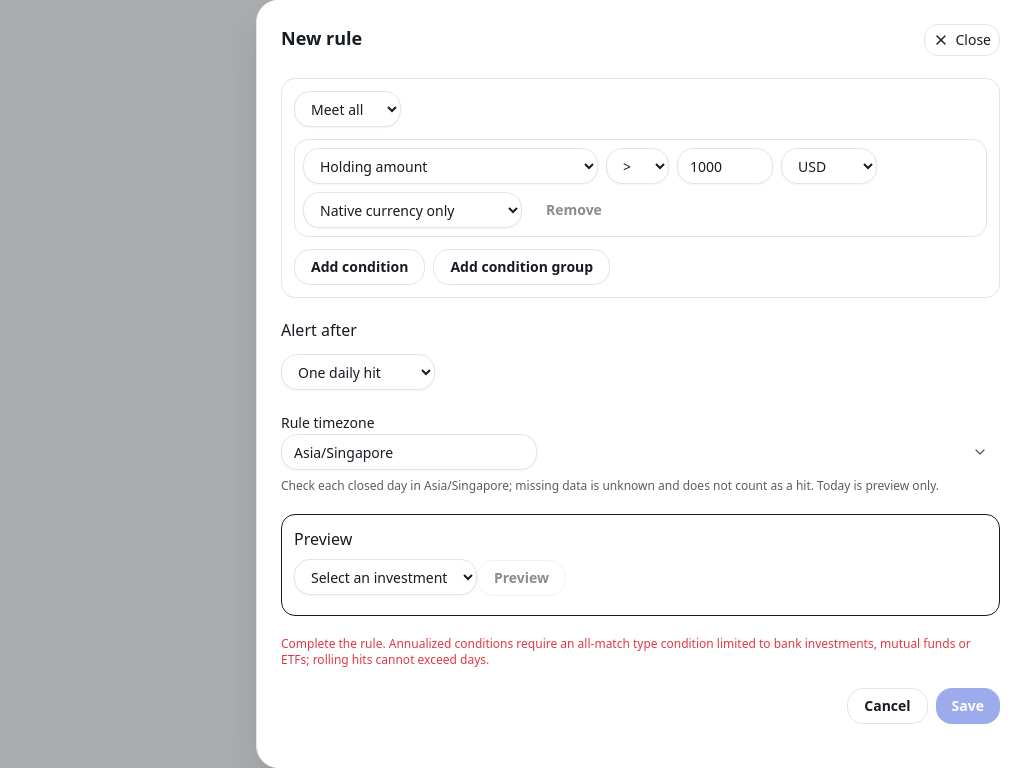
investment review rule editor › uses the IANA timezone chooser and cancels search text on Escape and Tab
(page scrolled)
Step 1. Click the dropdown labelled "Rule timezone" → (409, 452), box [281,434,537,470]
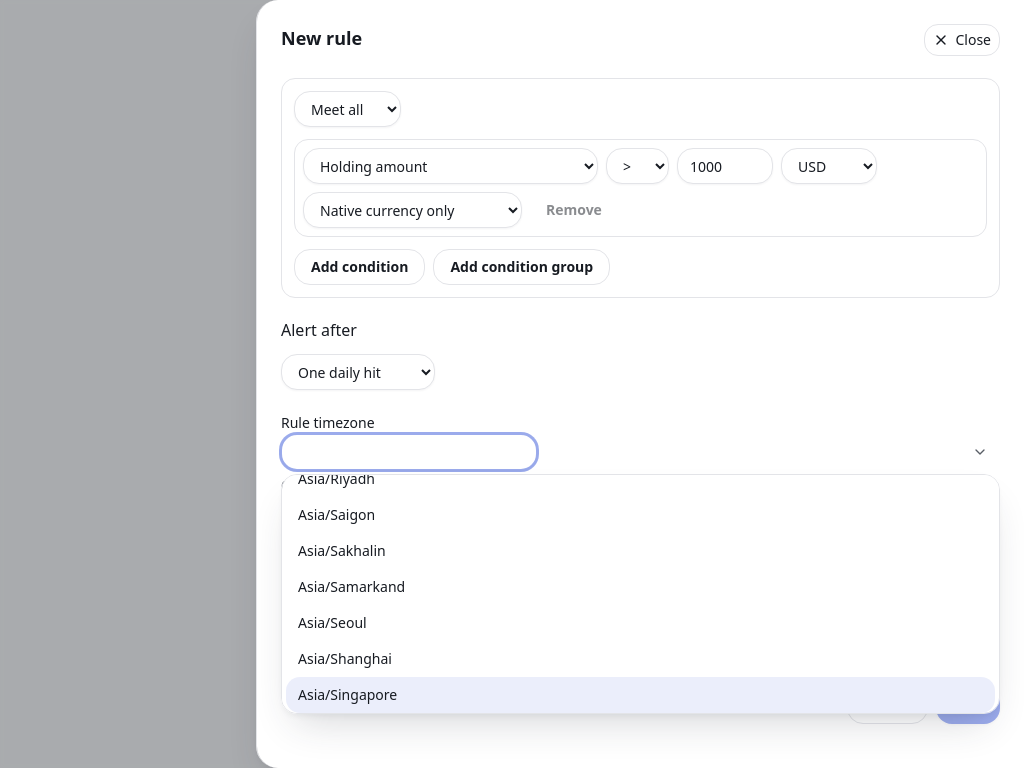
Step 2. Type "Pacific/Auckland" into the dropdown labelled "Rule timezone" → (409, 452), box [281,434,537,470]
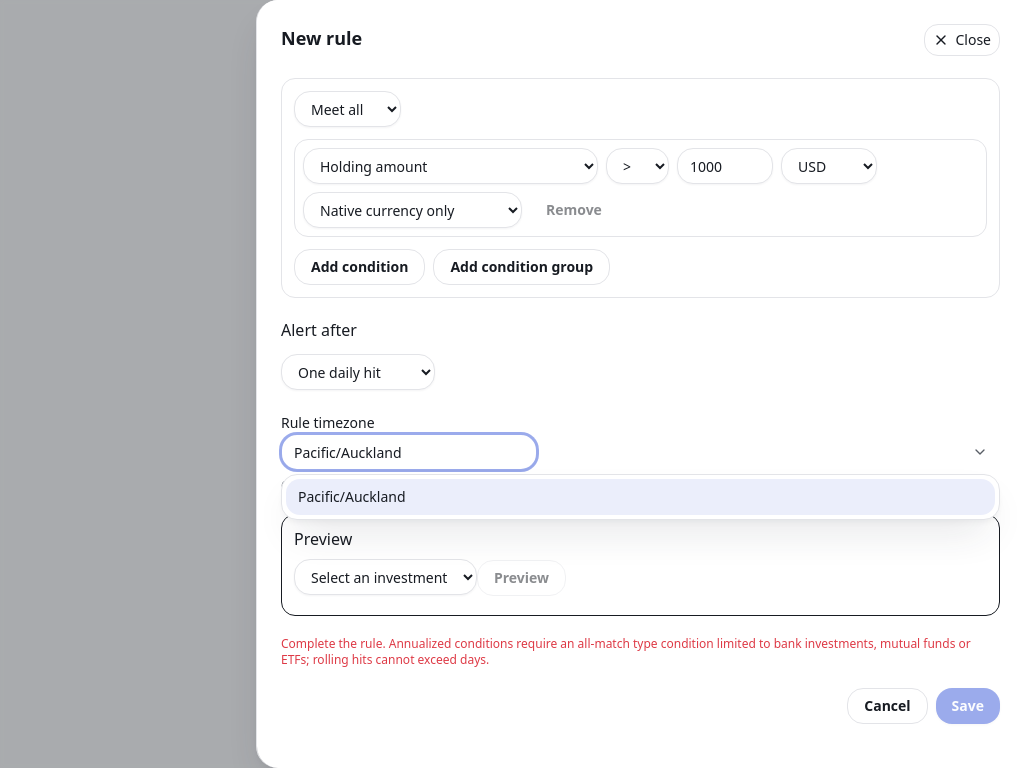
Step 3. Press Escape
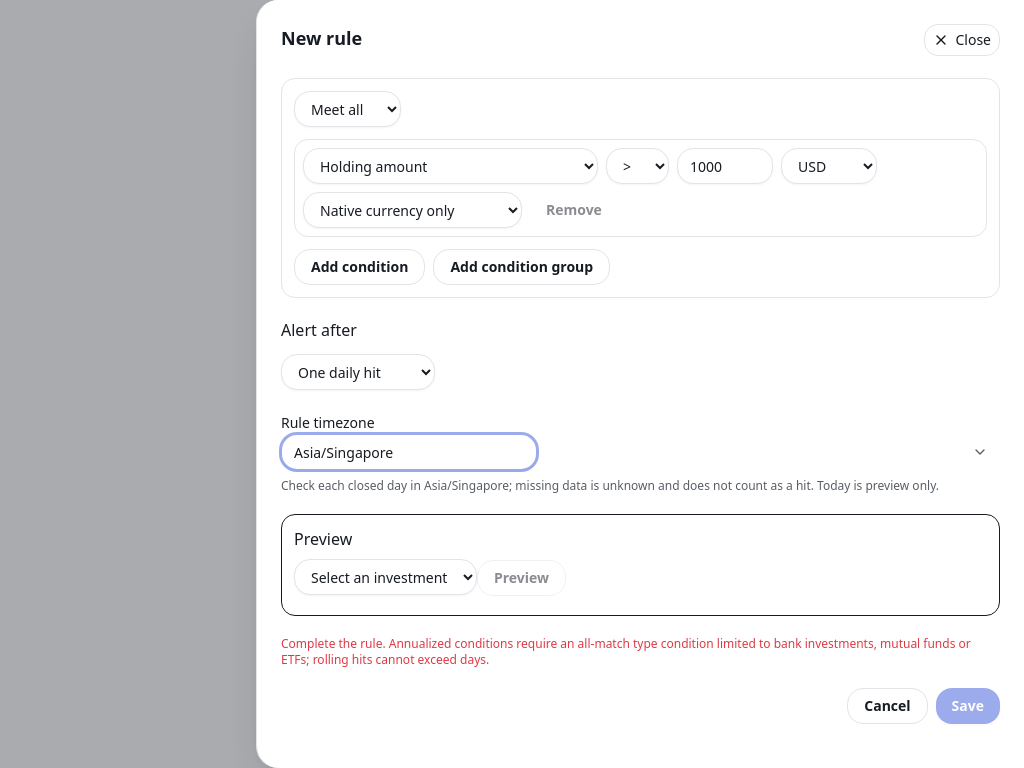
Check: the dropdown labelled "Rule timezone" holds "Asia/Singapore"
Step 4. Type "Pacific/Auckland" into the dropdown labelled "Rule timezone" → (409, 452), box [281,434,537,470]
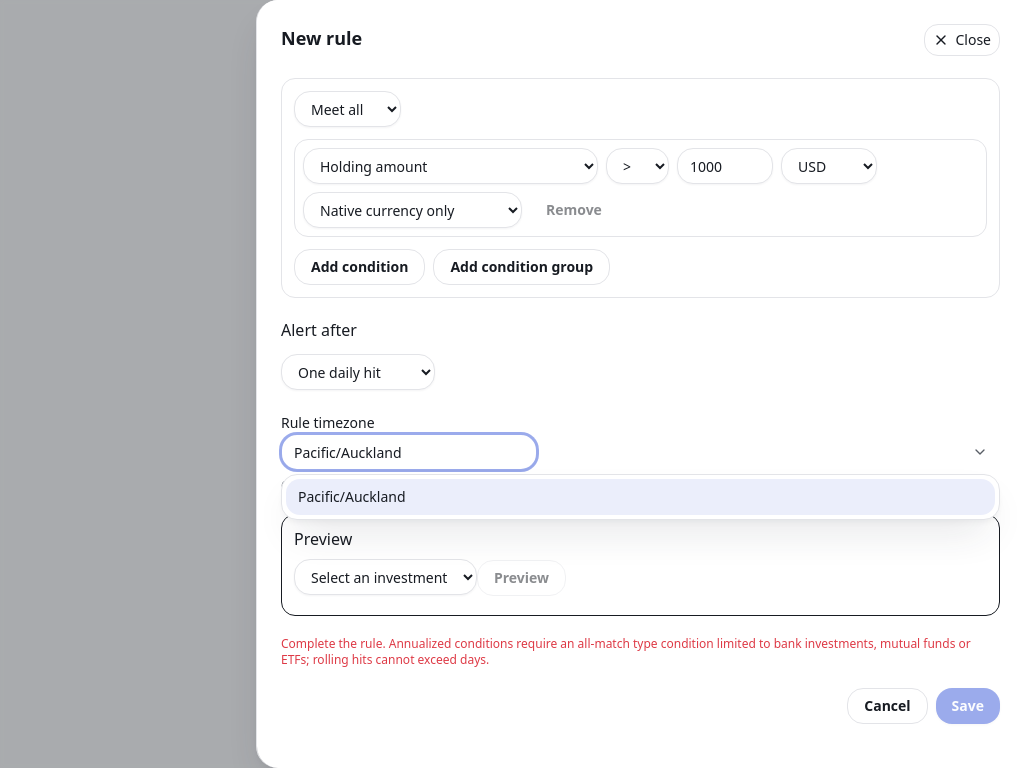
Step 5. Press Tab
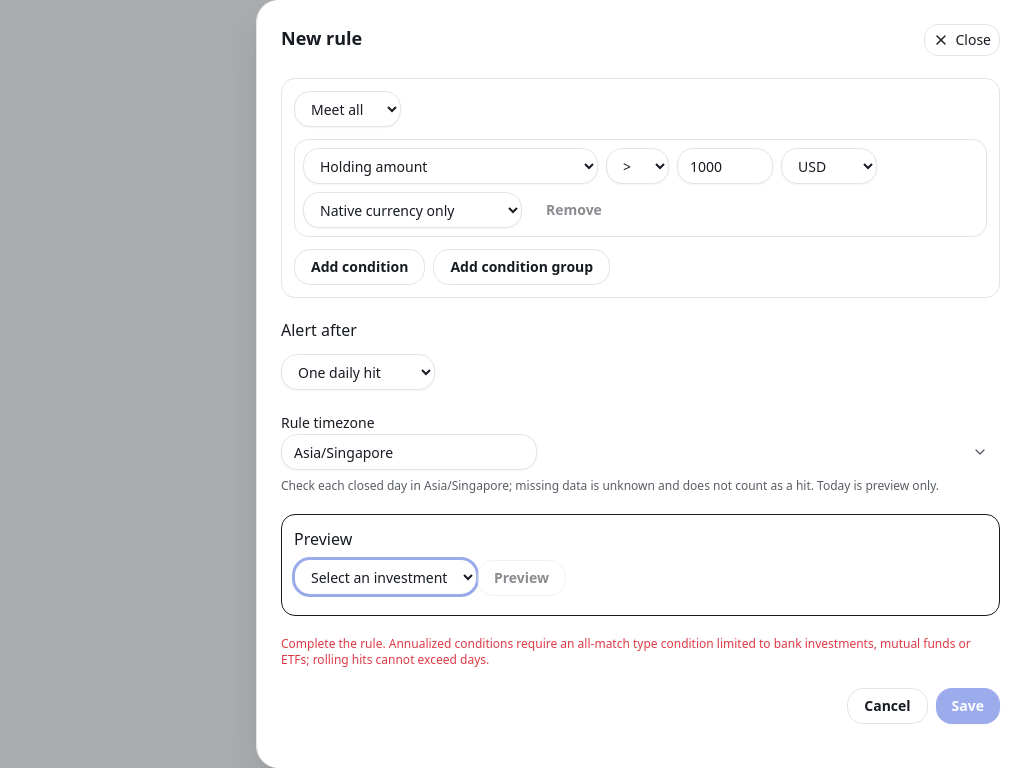
Check: the dropdown labelled "Rule timezone" holds "Asia/Singapore", box [281,434,537,470]
Check: the list is gone
